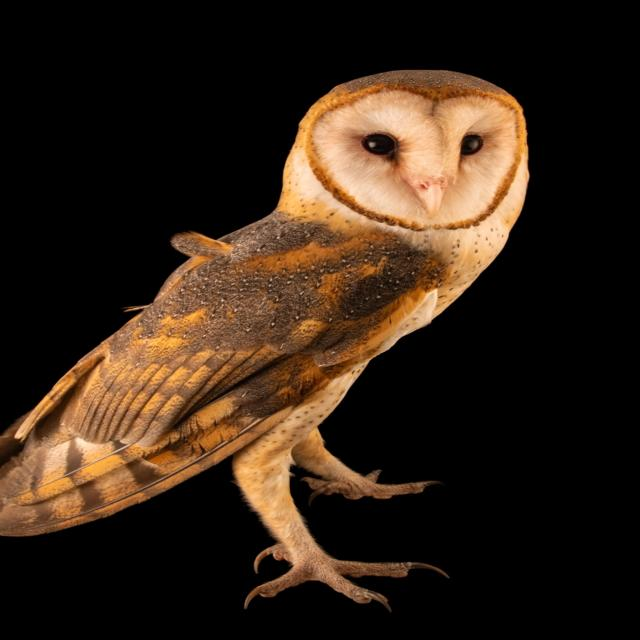Owl: (0, 61, 554, 613)
